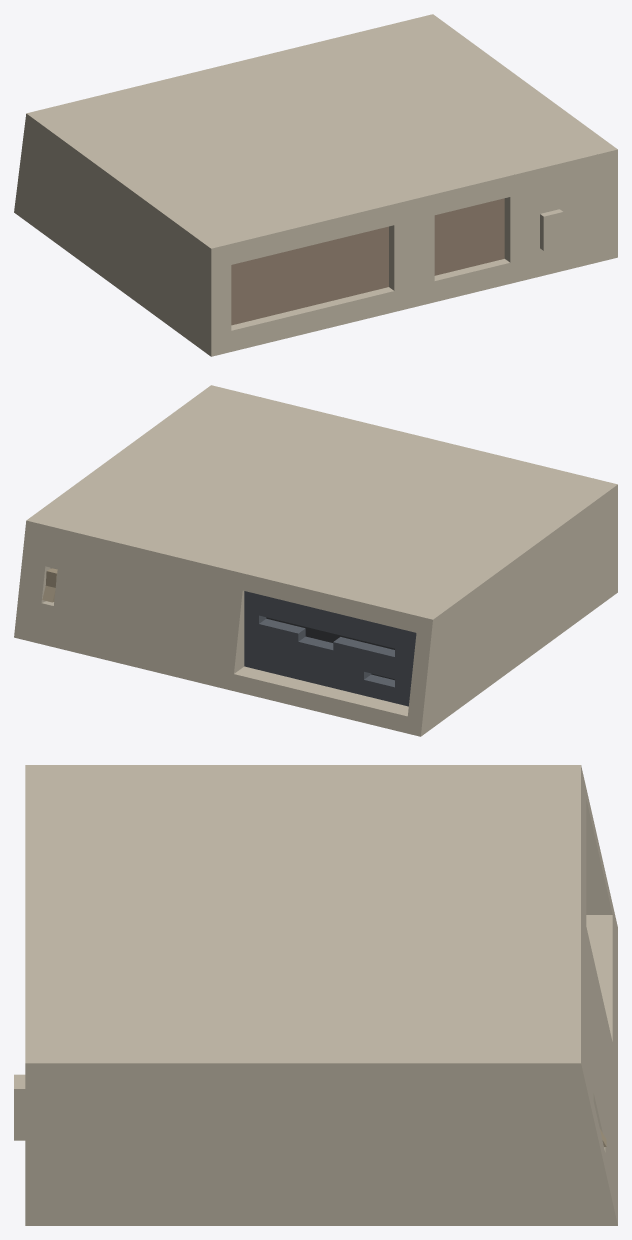
Rendered from Computer_case.fbx.
The picture shows the model from 3 angles, top to bottom: view 1: azimuth 30°, elevation 25°; view 2: azimuth 150°, elevation 25°; view 3: azimuth 270°, elevation 25°; orthographic projection. The views are drawn at different scales.
Visible parts, largest first — view 1: Plane.158; view 2: Plane.158; view 3: Plane.158.
Boxes of the visible parts, x1,y1,x2,y2 form: Plane.158: (14, 14, 617, 356); Plane.158: (14, 385, 617, 736); Plane.158: (14, 765, 617, 1225).
Size of the model in its own units: 1.4 by 1.2 by 0.3549.
